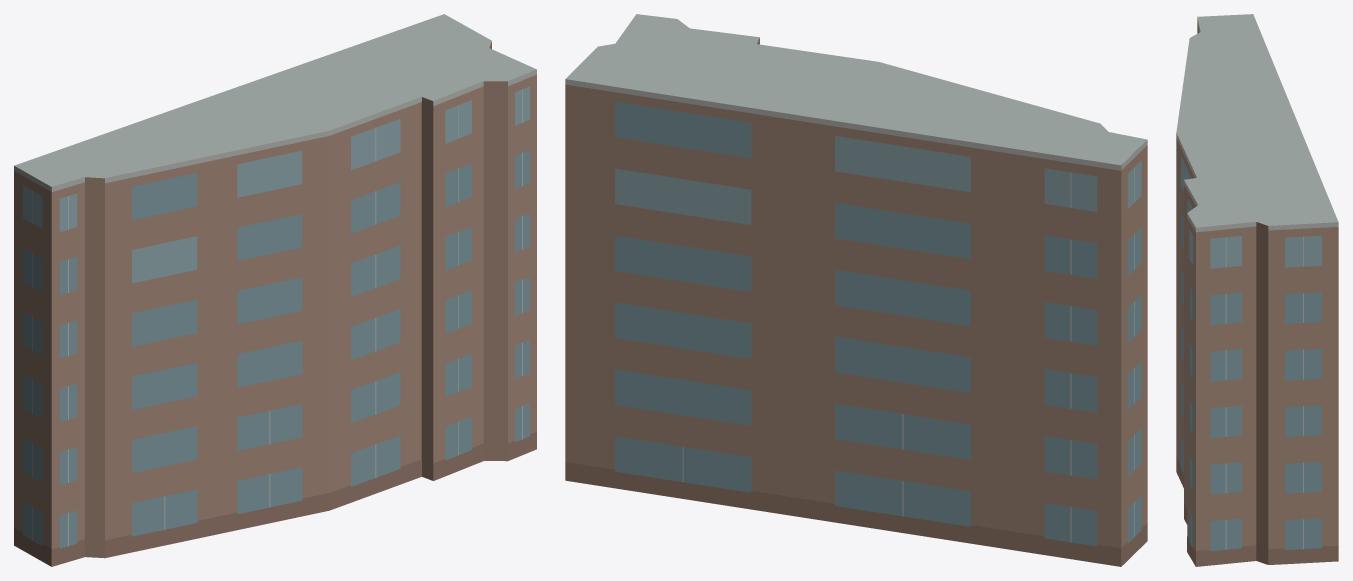
The model's file is survey-upis-32635785.glb.
The picture shows the model from 3 angles, left to right: view 1: azimuth 30°, elevation 25°; view 2: azimuth 150°, elevation 25°; view 3: azimuth 270°, elevation 25°; orthographic projection. The views are drawn at different scales.
Parts seen in each view (by area): view 1: survey-upis-32635785.tmp; view 2: survey-upis-32635785.tmp; view 3: survey-upis-32635785.tmp.
Part boxes in pixels (x1,y1,x2,y2): survey-upis-32635785.tmp: (14,14,536,566); survey-upis-32635785.tmp: (565,14,1147,566); survey-upis-32635785.tmp: (1176,14,1338,566).
Bounding box in the file's own units: 24.48 × 18.1 × 7.86.
